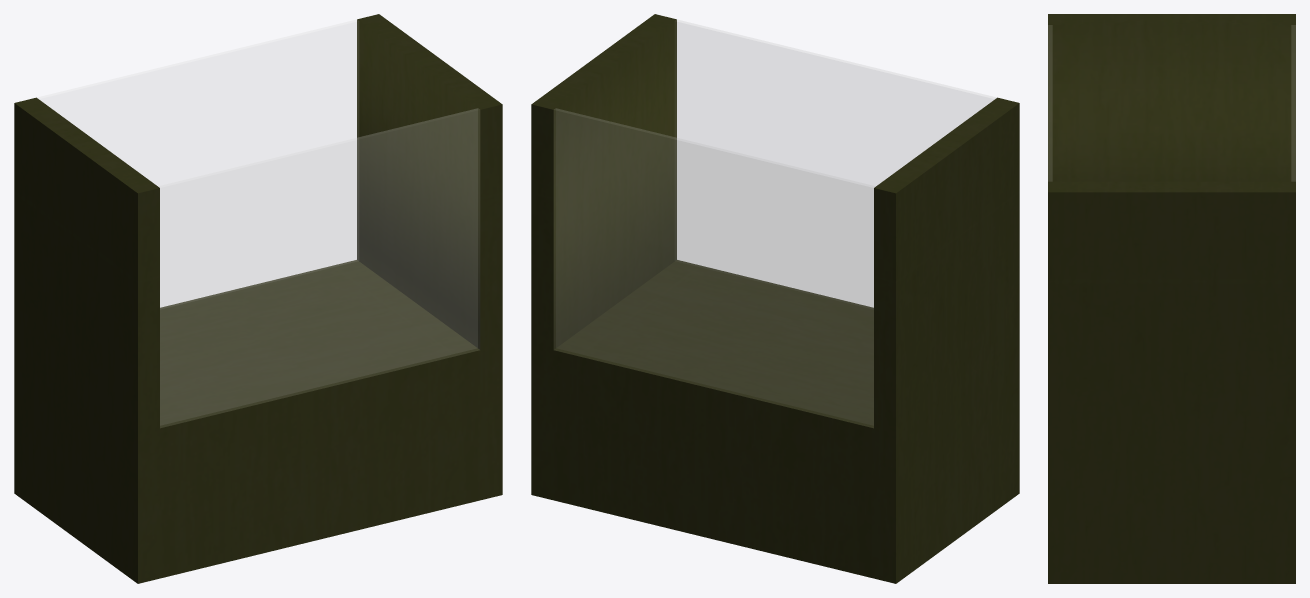
Rendered from LGSeochoB1GlassCabinet.fbx.
The picture shows the model from 3 angles, left to right: view 1: azimuth 30°, elevation 25°; view 2: azimuth 150°, elevation 25°; view 3: azimuth 270°, elevation 25°; orthographic projection.
Visible parts, largest first — view 1: LGSeochoB1Wood, LGSeochoB1Glass; view 2: LGSeochoB1Wood, LGSeochoB1Glass; view 3: LGSeochoB1Wood.
Boxes of the visible parts, x1,y1,x2,y2 form: LGSeochoB1Wood: (14,14,502,583); LGSeochoB1Glass: (37,20,477,425); LGSeochoB1Wood: (531,14,1019,583); LGSeochoB1Glass: (556,20,996,425); LGSeochoB1Wood: (1048,14,1295,583).
Size of the model in its own units: 119 by 122 by 69.78.
2 materials, 1 textured.
